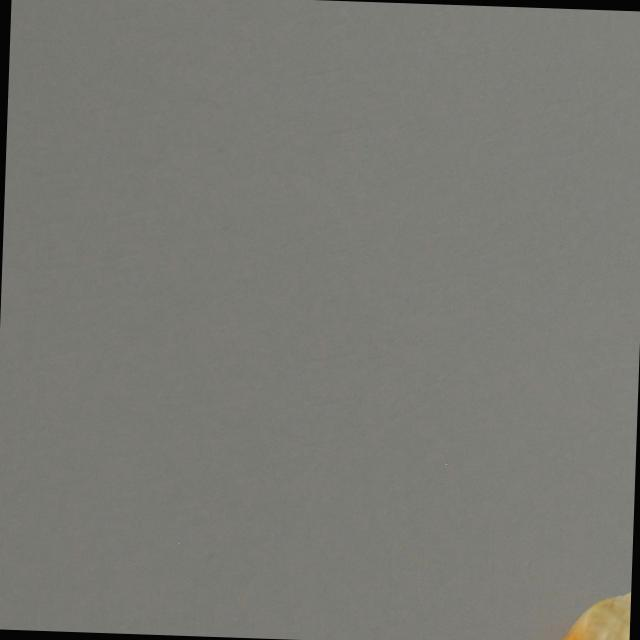entero: (538, 582, 631, 640)
